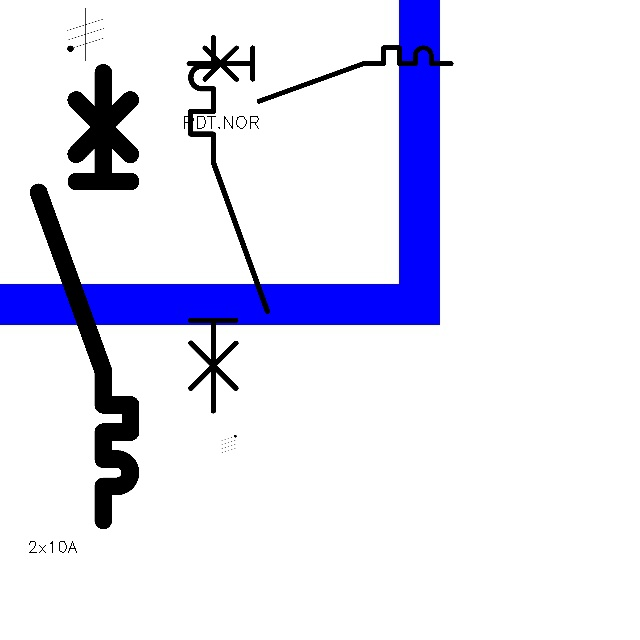interruptor_termomagnetico: (27, 61, 142, 532), (181, 28, 277, 420), (182, 41, 458, 108)
